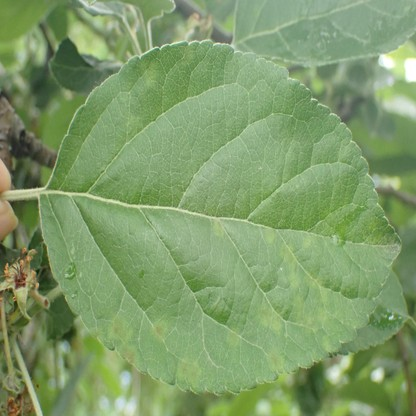powdery_mildew: (379, 237, 399, 257)
scab: (280, 242, 297, 288), (260, 302, 281, 331), (305, 307, 327, 334), (109, 315, 132, 340), (119, 343, 139, 367), (178, 360, 199, 382), (139, 62, 158, 86), (150, 317, 166, 345), (268, 349, 286, 373), (294, 293, 303, 326), (212, 217, 225, 237), (226, 327, 240, 345), (90, 326, 104, 342), (305, 270, 318, 285), (263, 227, 275, 243), (302, 234, 314, 249), (321, 335, 332, 351), (320, 287, 328, 302)
